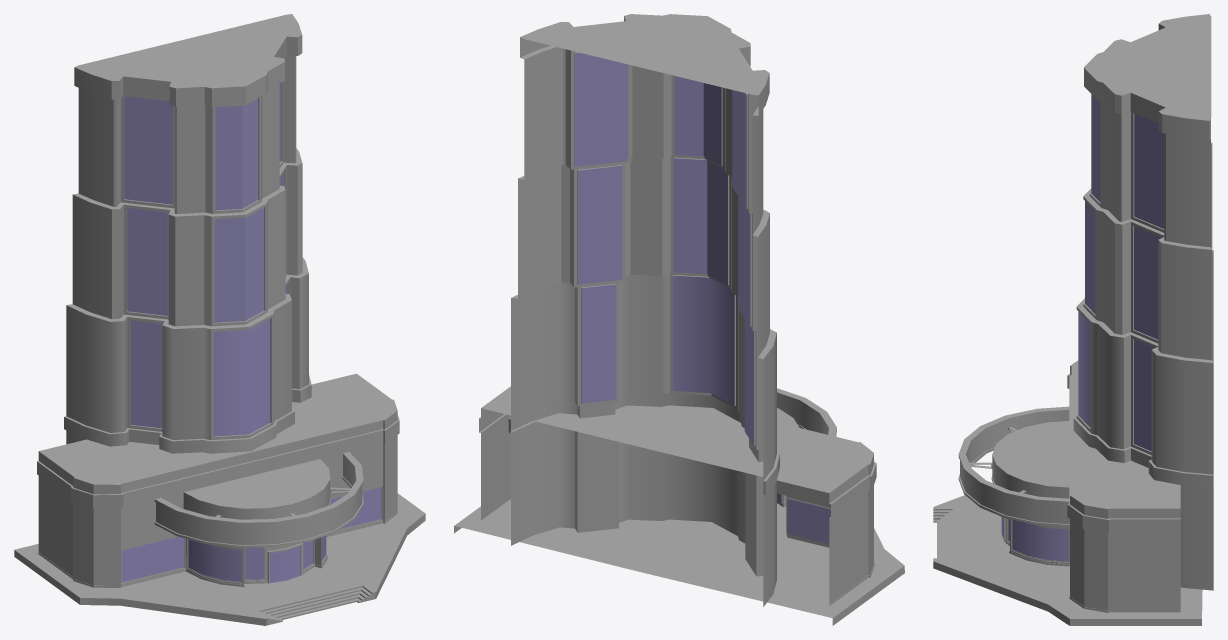
The model's file is TorreV1.fbx.
3 views of the same model, side by side, from view 1: azimuth 30°, elevation 25°; view 2: azimuth 150°, elevation 25°; view 3: azimuth 270°, elevation 25° (orthographic). The views are drawn at different scales.
Parts seen in each view (by area): view 1: pCylinder2, pCube7, pCylinder1, pCube8, pPlane1; view 2: pCylinder2, pCube7, pCube8, pCylinder1; view 3: pCylinder2, pCube7, pCylinder1, pCube8.
Part boxes in pixels (box(x1,y1,x2,y2)): pCylinder2: box(64, 14, 311, 554); pCube7: box(37, 373, 399, 587); pCylinder1: box(154, 452, 363, 587); pCube8: box(14, 493, 425, 625); pPlane1: box(267, 543, 302, 583); pCylinder2: box(508, 14, 779, 606); pCube7: box(479, 386, 876, 605); pCube8: box(454, 499, 904, 625); pCylinder1: box(777, 388, 836, 537); pCylinder2: box(1073, 14, 1213, 590); pCube7: box(1067, 360, 1180, 612); pCylinder1: box(958, 406, 1069, 566); pCube8: box(933, 495, 1202, 625).
Size of the model in its own units: 40.65 by 52.97 by 28.4.
